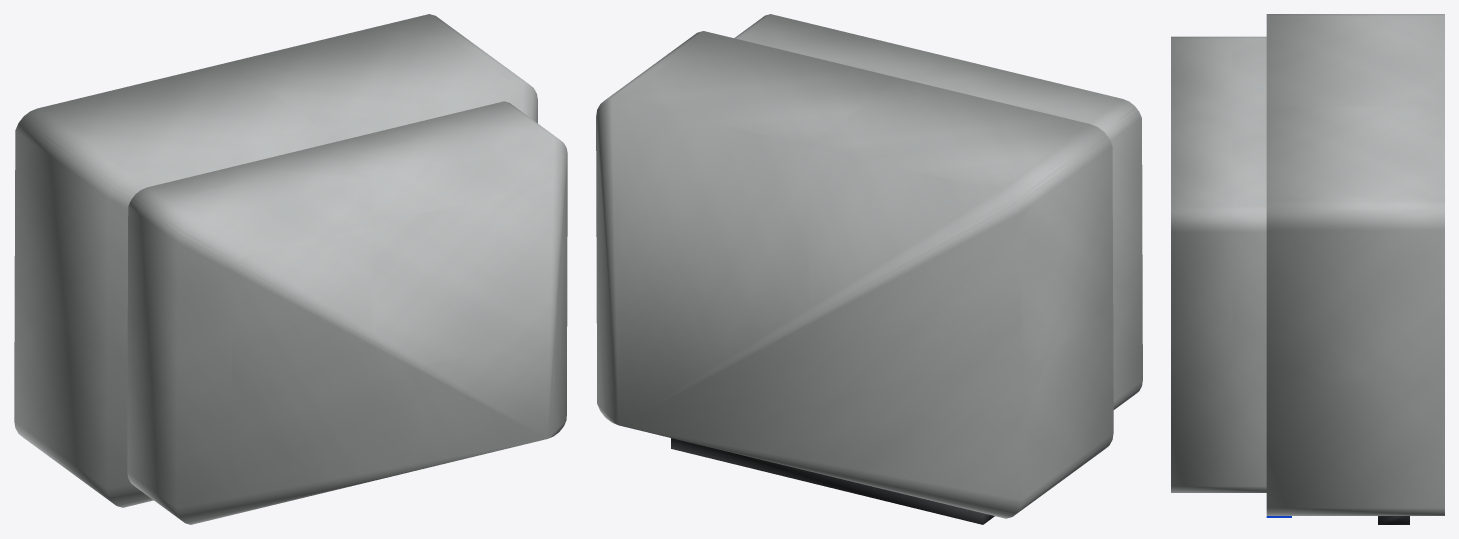
Rendered from PRINTER_MFP_001.glb.
The picture shows the model from 3 angles, left to right: view 1: azimuth 30°, elevation 25°; view 2: azimuth 150°, elevation 25°; view 3: azimuth 270°, elevation 25°; orthographic projection. The views are drawn at different scales.
Visible parts, largest first — view 1: upper_body_001, lower_body_000; view 2: lower_body_000, upper_body_001, paper_slot_004; view 3: lower_body_000, upper_body_001.
Part boxes in pixels (x1,y1,x2,y2): upper_body_001: (127,101,567,524); lower_body_000: (14,14,537,507); lower_body_000: (596,31,1113,518); upper_body_001: (734,14,1142,409); paper_slot_004: (671,438,994,524); lower_body_000: (1266,14,1444,515); upper_body_001: (1171,36,1266,492).
Bounding box in the file's own units: 0.75 × 0.5975 × 0.43.
3 materials, 3 textured.
